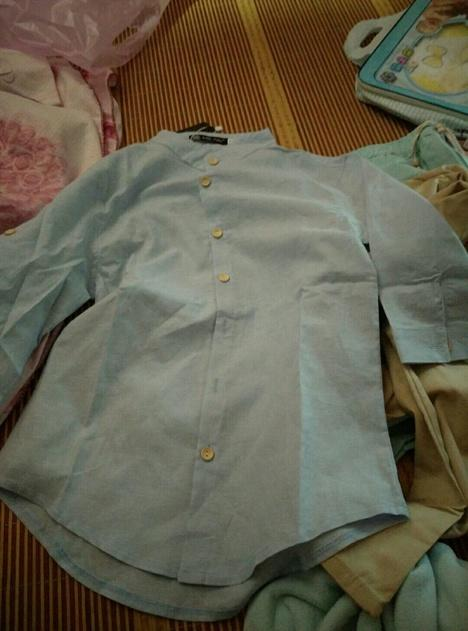S_shirt: (1, 129, 468, 622)
